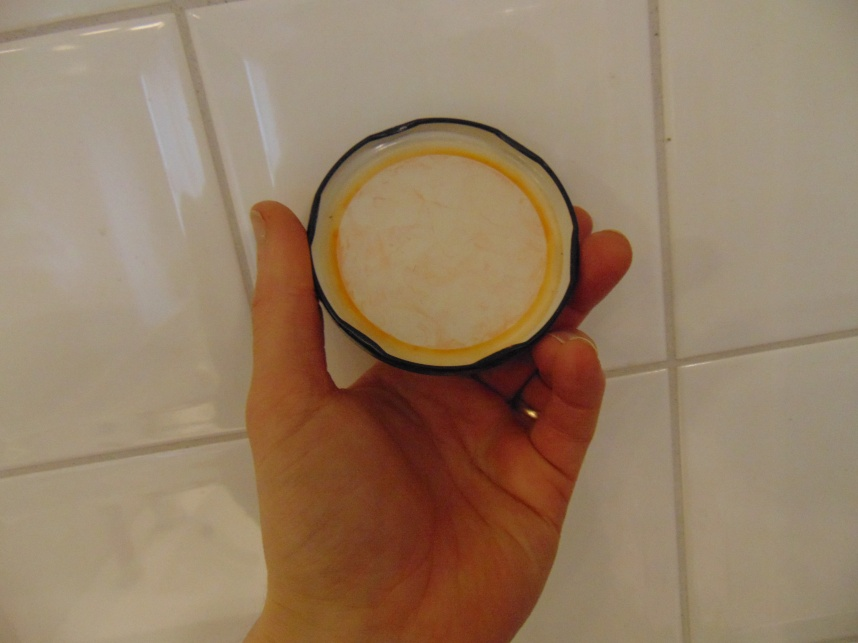metal: (301, 118, 582, 380)
